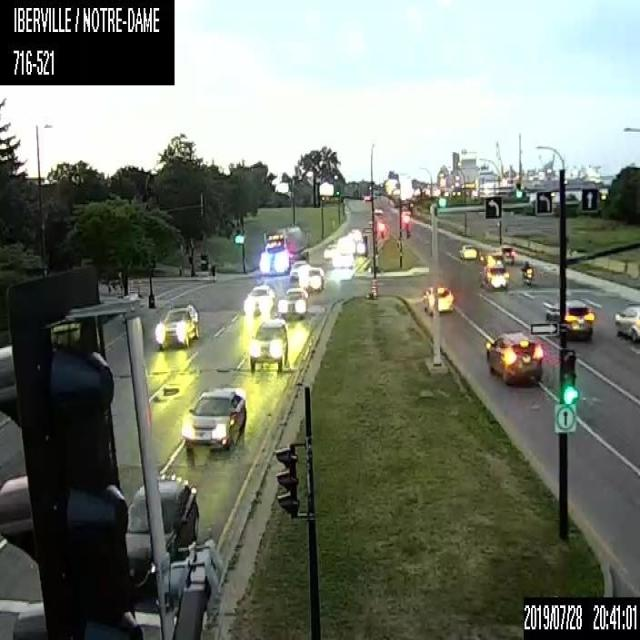construction: (370, 278, 377, 298)
pedestrian: (210, 260, 216, 282)
vehicle: (124, 474, 199, 598), (181, 386, 247, 454), (484, 329, 544, 384), (259, 225, 308, 274), (544, 296, 594, 341), (155, 300, 199, 348), (249, 318, 286, 373), (613, 301, 639, 344), (421, 283, 456, 313), (277, 286, 308, 319), (243, 283, 274, 315), (480, 264, 509, 290), (299, 267, 324, 289), (481, 250, 505, 268), (289, 259, 309, 279), (496, 244, 513, 264), (521, 259, 534, 284), (458, 241, 476, 259), (336, 249, 352, 267), (324, 243, 337, 259), (373, 205, 382, 214)
